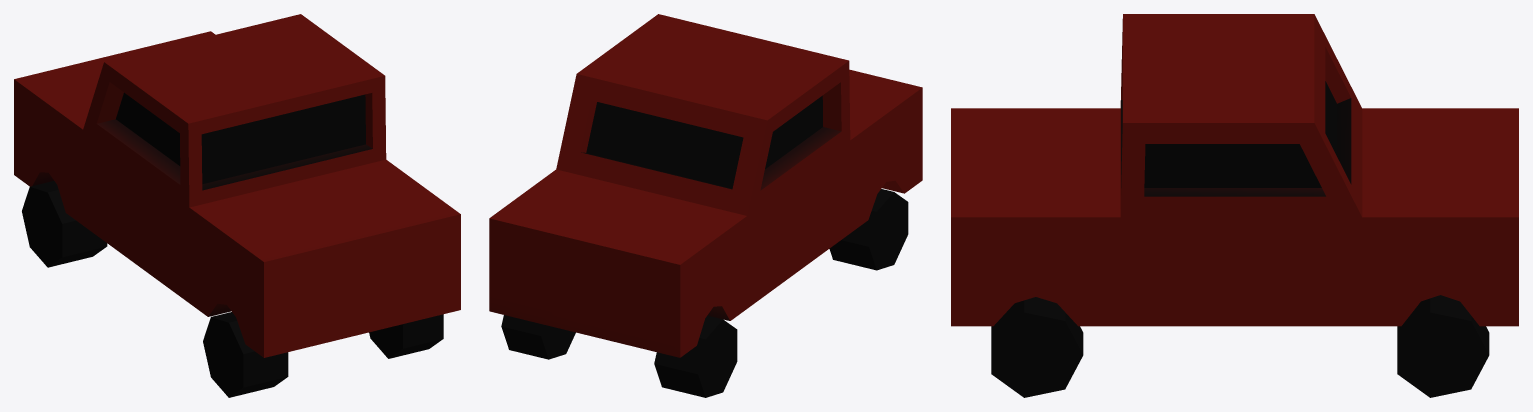
The model's file is Car.fbx.
3 views of the same model, side by side, from view 1: azimuth 30°, elevation 25°; view 2: azimuth 150°, elevation 25°; view 3: azimuth 270°, elevation 25° (orthographic). The views are drawn at different scales.
Visible parts, largest first — view 1: Car, Wheels; view 2: Car, Wheels; view 3: Car, Wheels.
Part boxes in pixels (x1,y1,x2,y2): Car: (14,14,460,357); Wheels: (22,181,443,397); Car: (489,14,922,357); Wheels: (501,189,908,397); Car: (951,14,1518,326); Wheels: (991,295,1489,397).
Bounding box in the file's own units: 2.71 × 3.08 × 5.78.
Materials: 1 (1 with a texture image).
